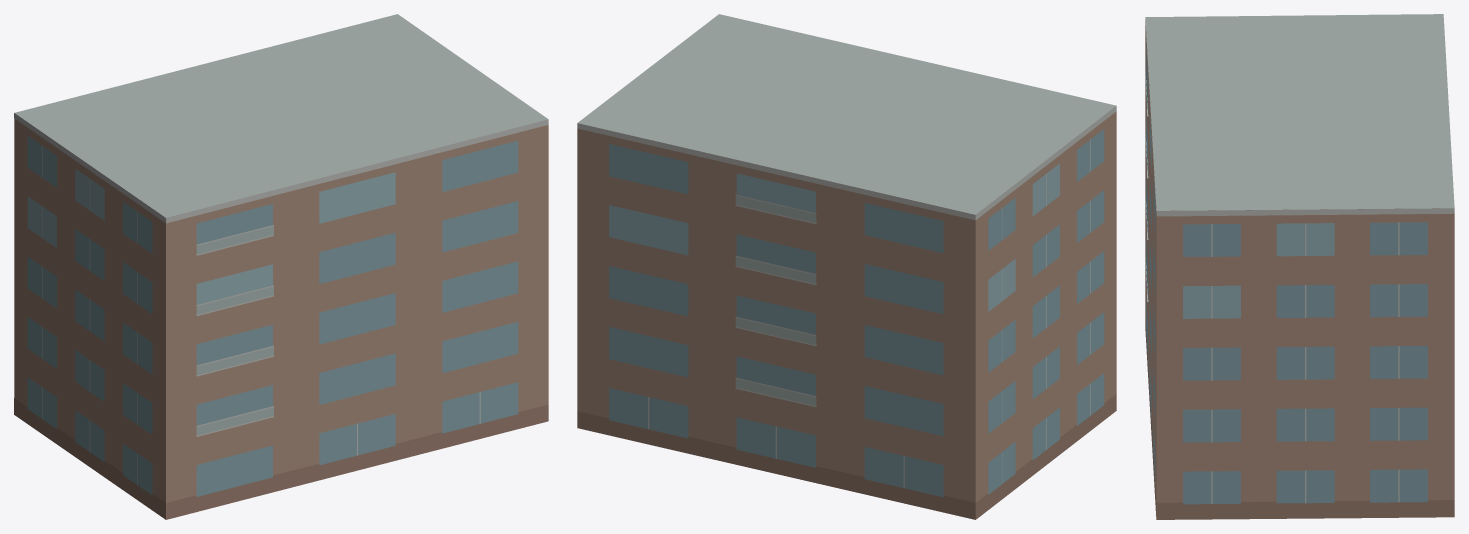
The model's file is survey-upis-32885161.glb.
3 renders of one model, left to right at view 1: azimuth 30°, elevation 25°; view 2: azimuth 150°, elevation 25°; view 3: azimuth 270°, elevation 25°, orthographic. The views are drawn at different scales.
Parts seen in each view (by area): view 1: survey-upis-32885161.tmp; view 2: survey-upis-32885161.tmp; view 3: survey-upis-32885161.tmp.
Part boxes in pixels (box(x1,y1,x2,y2)): survey-upis-32885161.tmp: box(14, 14, 548, 519); survey-upis-32885161.tmp: box(577, 14, 1116, 519); survey-upis-32885161.tmp: box(1145, 14, 1454, 519).
Bounding box in the file's own units: 18.6 × 13.6 × 12.35.
